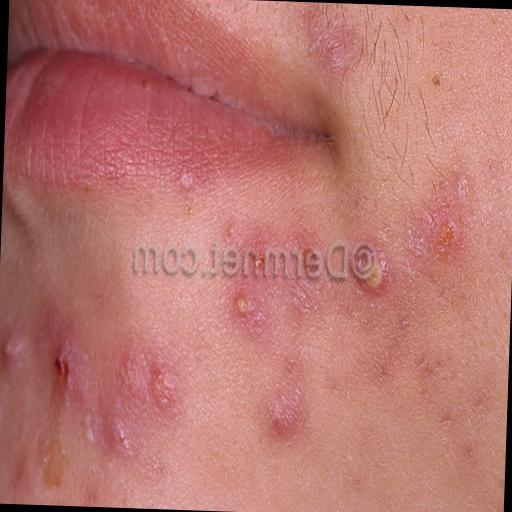Skin_Lesion: (46, 328, 88, 408), (290, 232, 330, 310), (269, 384, 303, 451), (432, 213, 464, 269), (36, 430, 66, 488), (153, 358, 180, 422), (117, 355, 148, 404), (430, 174, 480, 204), (361, 247, 389, 299), (319, 26, 348, 74), (416, 346, 444, 390), (106, 420, 130, 468), (8, 454, 30, 504), (248, 248, 274, 280), (0, 331, 22, 368), (436, 406, 462, 430), (238, 290, 258, 320), (428, 67, 446, 96), (457, 440, 476, 466), (178, 172, 194, 193), (136, 78, 150, 102), (224, 224, 238, 240), (400, 314, 408, 332)
